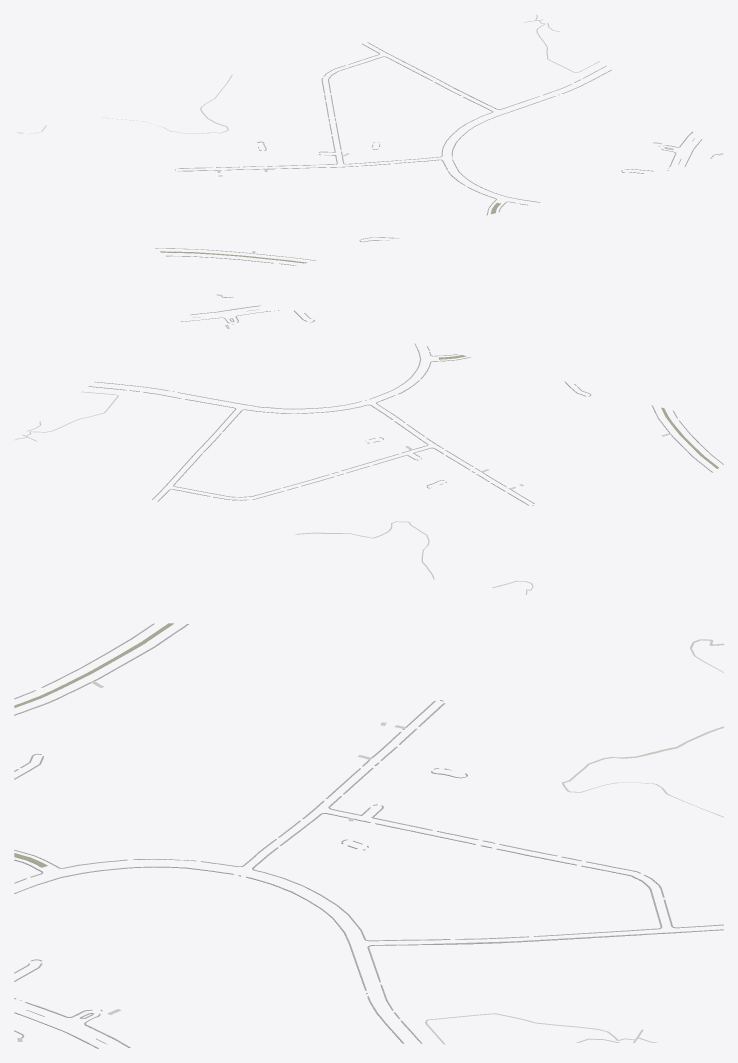
The model's file is ground_r4_c6.glb.
3 renders of one model, top to bottom at view 1: azimuth 30°, elevation 25°; view 2: azimuth 150°, elevation 25°; view 3: azimuth 270°, elevation 25°, orthographic. The views are drawn at different scales.
Parts seen in each view (by area): view 1: sidewalks, paths; view 2: sidewalks, paths; view 3: sidewalks, paths, medians.
Boxes of the visible parts, bbox=[...] form: sidewalks: bbox=[155, 42, 717, 265]; paths: bbox=[16, 14, 599, 134]; sidewalks: bbox=[88, 296, 723, 505]; paths: bbox=[14, 391, 533, 594]; sidewalks: bbox=[14, 623, 723, 1048]; paths: bbox=[425, 639, 723, 1044]; medians: bbox=[14, 623, 173, 867].
Bounding box in the file's own units: 1126 × 36.11 × 788.
